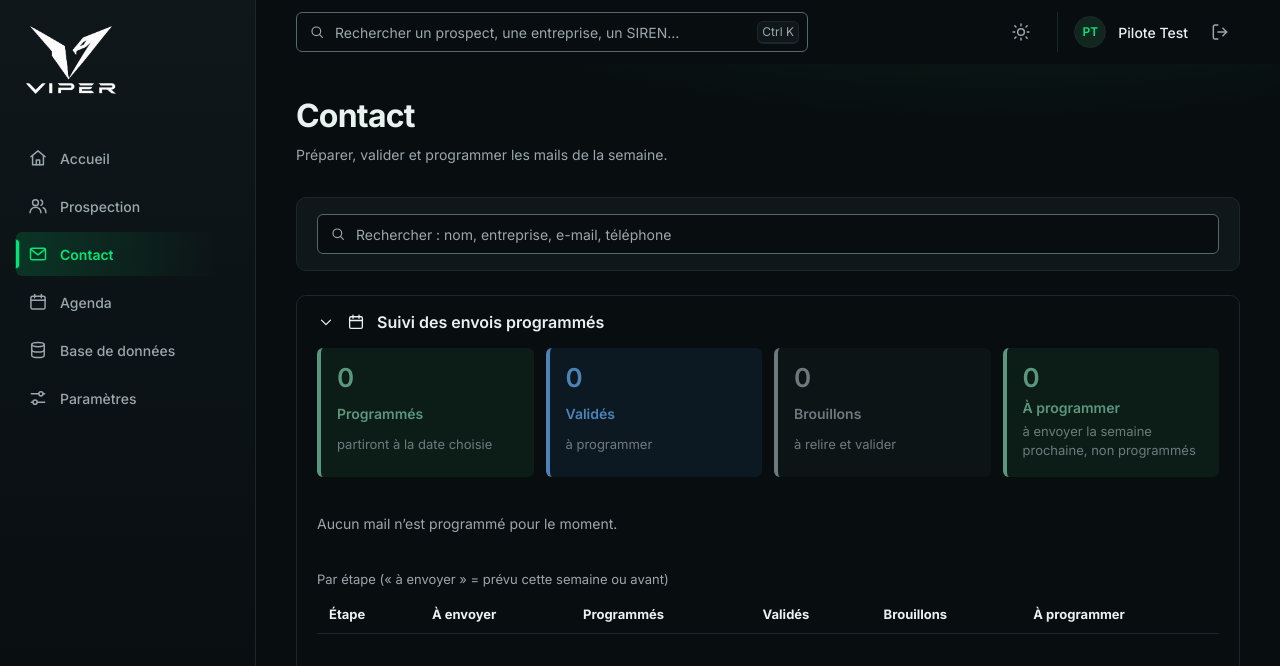
Contact page › opens the sections that hold a match when searching, closed ones included
Type "alpha" into the search field. click: point(780, 234)
box: [354, 215, 1206, 253]
(page scrolled)
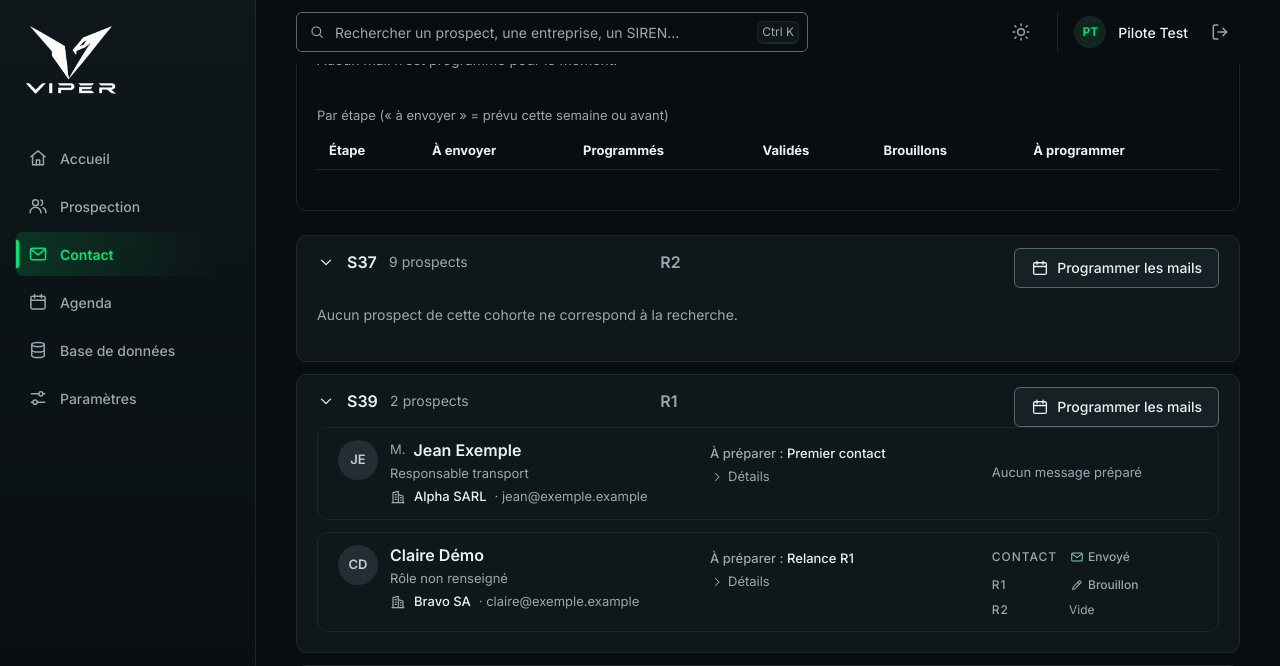
expect the button "S39 2 prospects R1" is expanded: met, box [297, 375, 1239, 427]
